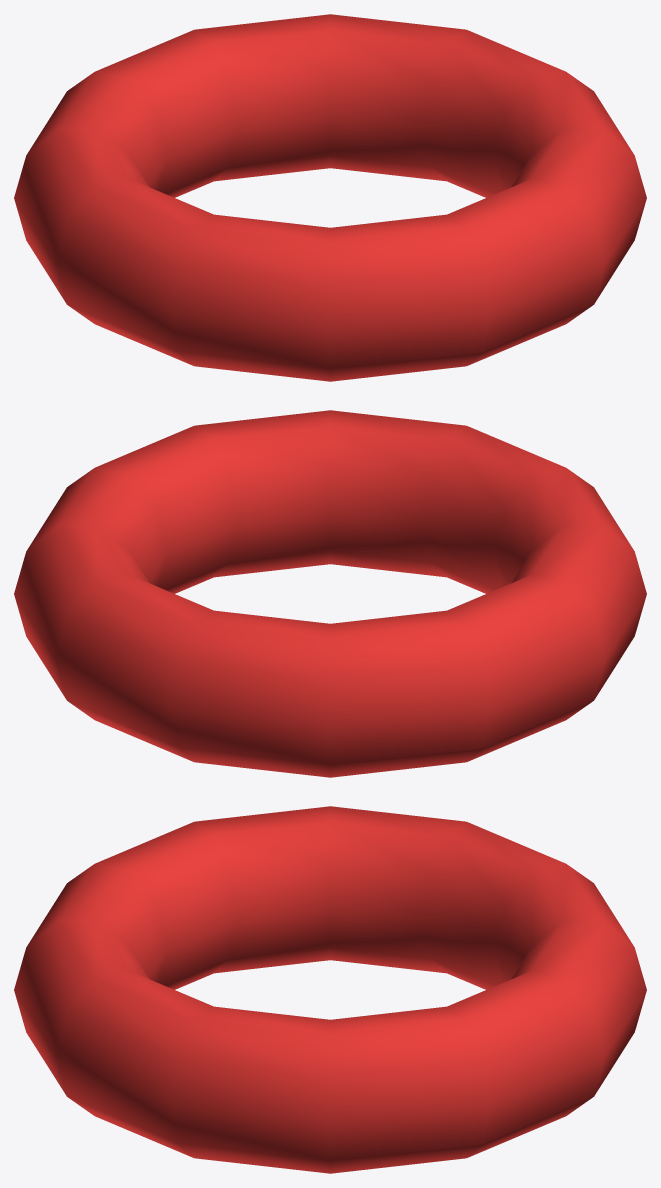
The model's file is Ring_Throw.FBX.
3 views of the same model, one above another, from view 1: azimuth 30°, elevation 25°; view 2: azimuth 150°, elevation 25°; view 3: azimuth 270°, elevation 25° (orthographic).
Parts seen in each view (by area): view 1: Ring_throw; view 2: Ring_throw; view 3: Ring_throw.
Boxes of the visible parts, x1,y1,x2,y2 form: Ring_throw: [14, 14, 646, 381]; Ring_throw: [14, 410, 646, 777]; Ring_throw: [14, 806, 646, 1173].
Size of the model in its own units: 82.94 by 19.84 by 82.94.
